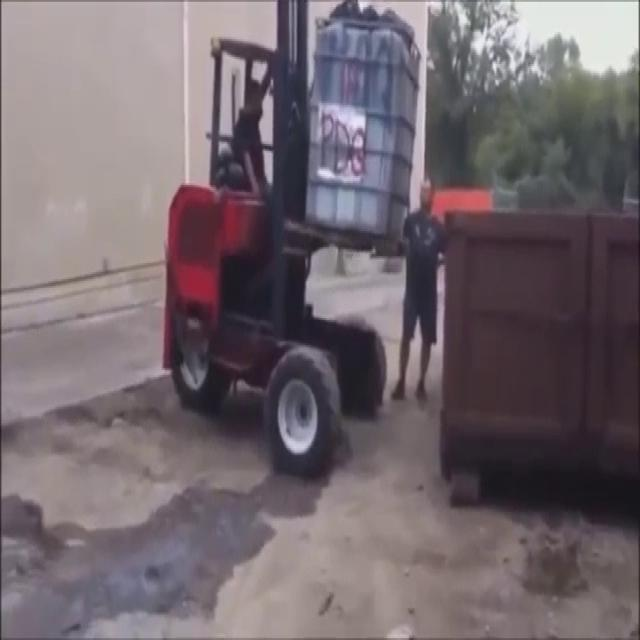Chariot elevateur: (158, 1, 421, 484)
